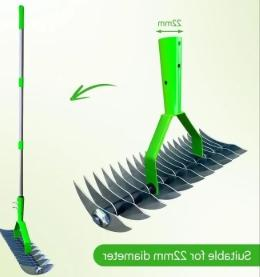RATEAU: (0, 8, 244, 277)
